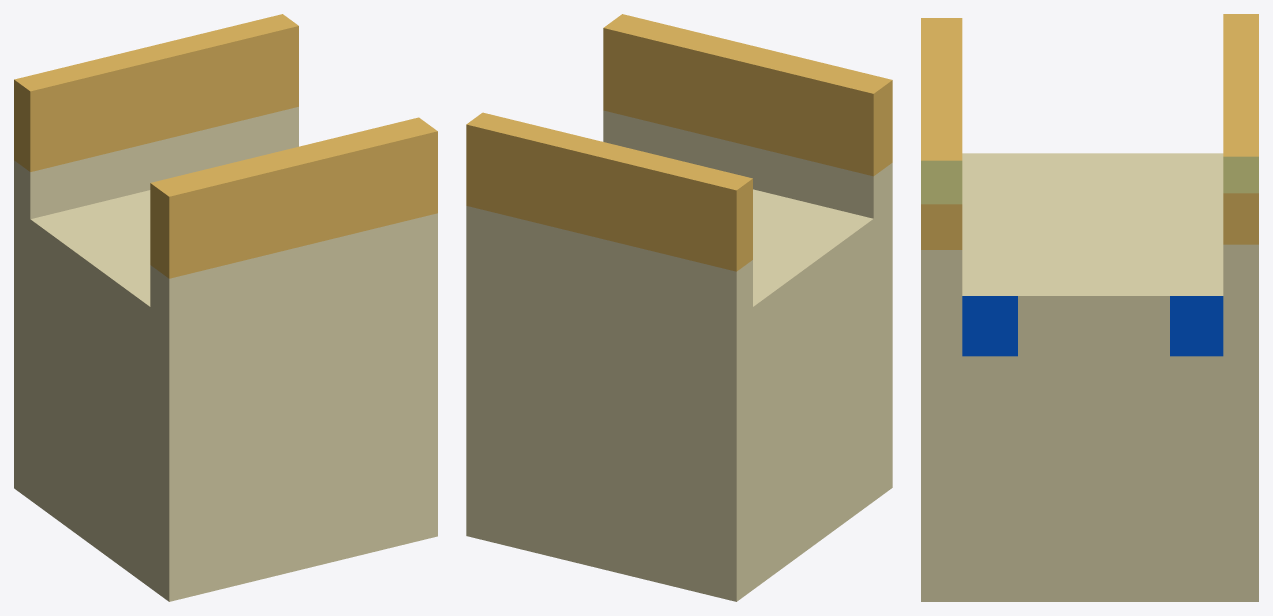
Rendered from Dog.fbx.
The picture shows the model from 3 angles, left to right: view 1: azimuth 30°, elevation 25°; view 2: azimuth 150°, elevation 25°; view 3: azimuth 270°, elevation 25°; orthographic projection. The views are drawn at different scales.
Parts seen in each view (by area): view 1: Cube; view 2: Cube; view 3: Cube.
Part boxes in pixels (left/top/right/bottom): Cube: left=14, top=14, right=437, bottom=601; Cube: left=466, top=14, right=892, bottom=601; Cube: left=921, top=14, right=1258, bottom=601.
Size of the model in its own units: 200 by 291 by 200.
